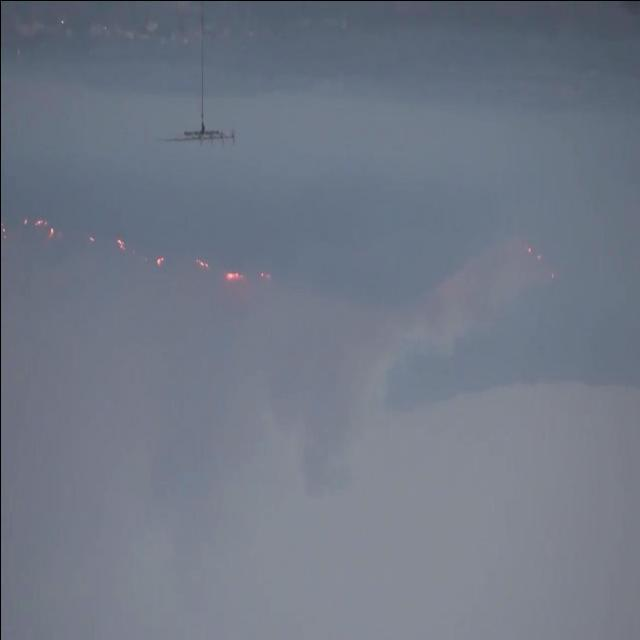Fire: (223, 267, 243, 281), (116, 237, 126, 254), (32, 218, 48, 228), (194, 257, 208, 267), (155, 254, 166, 266), (48, 228, 54, 236)
